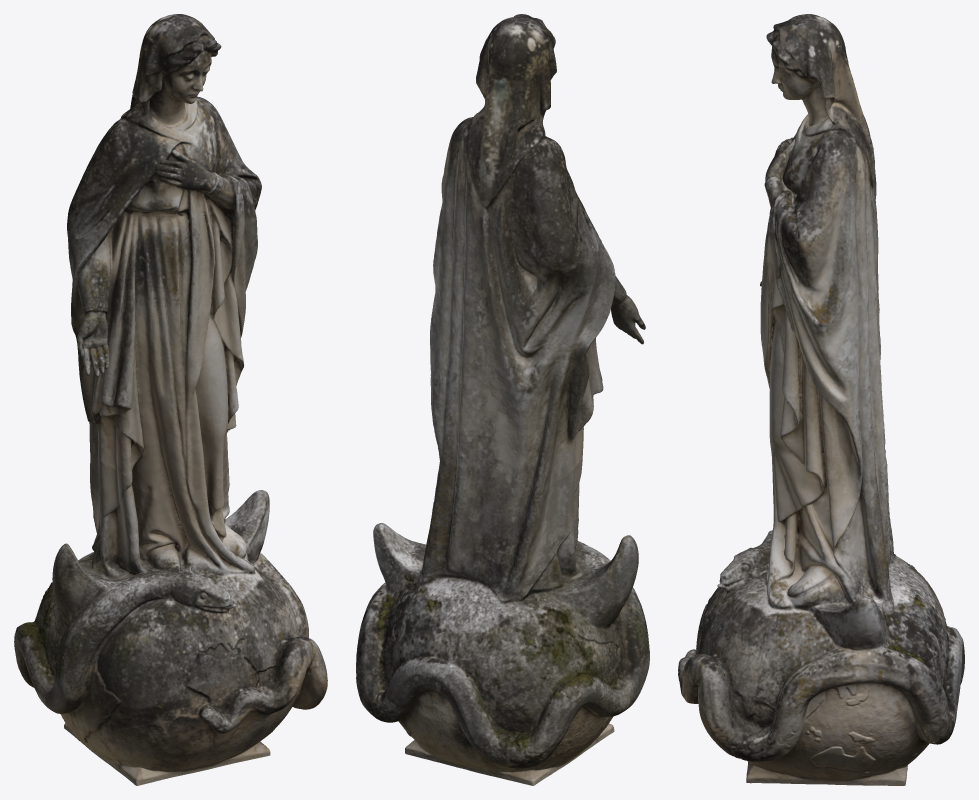
File: maria_immaculata.glb
3 views of the same model, side by side, from view 1: azimuth 30°, elevation 25°; view 2: azimuth 150°, elevation 25°; view 3: azimuth 270°, elevation 25° (orthographic). The views are drawn at different scales.
Visible parts, largest first — view 1: Object_4, Object_3, Object_2, Object_5, Object_6, Object_7; view 2: Object_2, Object_4, Object_6, Object_3, Object_7, Object_5; view 3: Object_5, Object_6, Object_2, Object_7, Object_4, Object_3.
Boxes of the visible parts, x1=… form: Object_4: x1=23, y1=108, x2=256, y2=767; Object_3: x1=14, y1=305, x2=327, y2=764; Object_2: x1=30, y1=102, x2=296, y2=785; Object_5: x1=52, y1=281, x2=308, y2=720; Object_6: x1=70, y1=14, x2=312, y2=781; Object_7: x1=21, y1=95, x2=327, y2=781; Object_2: x1=362, y1=40, x2=634, y2=785; Object_4: x1=403, y1=122, x2=645, y2=781; Object_6: x1=356, y1=14, x2=641, y2=752; Object_3: x1=398, y1=331, x2=643, y2=761; Object_7: x1=367, y1=74, x2=647, y2=775; Object_5: x1=356, y1=310, x2=649, y2=768; Object_5: x1=721, y1=282, x2=952, y2=785; Object_6: x1=682, y1=14, x2=964, y2=753; Object_2: x1=678, y1=28, x2=963, y2=785; Object_7: x1=682, y1=108, x2=929, y2=782; Object_4: x1=760, y1=112, x2=882, y2=399; Object_3: x1=678, y1=568, x2=927, y2=779.
Bounding box in the file's own units: 0.7103 × 2.01 × 0.7121.
2 materials, 1 textured.
